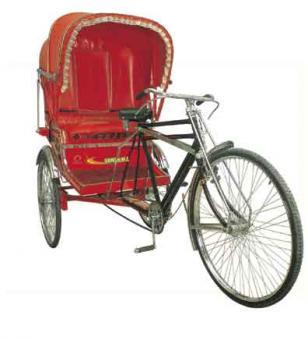Rickshaw: (22, 8, 302, 317)
